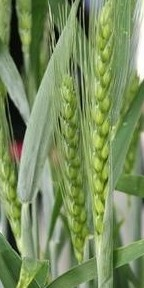Healthy Wheat: (51, 73, 88, 249)
